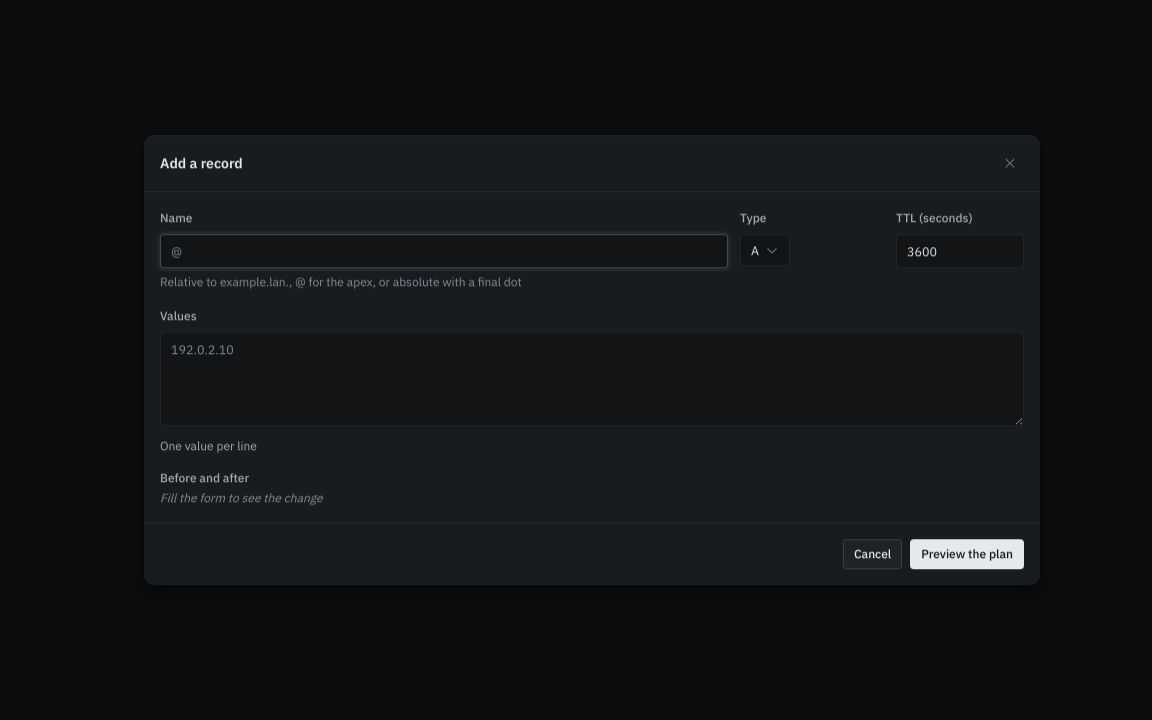
Test case: RecordEditor › shows field errors and builds nothing while the form is invalid
Type "bad..name" into the field with test id "record-owner".
click(444, 251); type("bad..name")  # box [160,234,728,268]
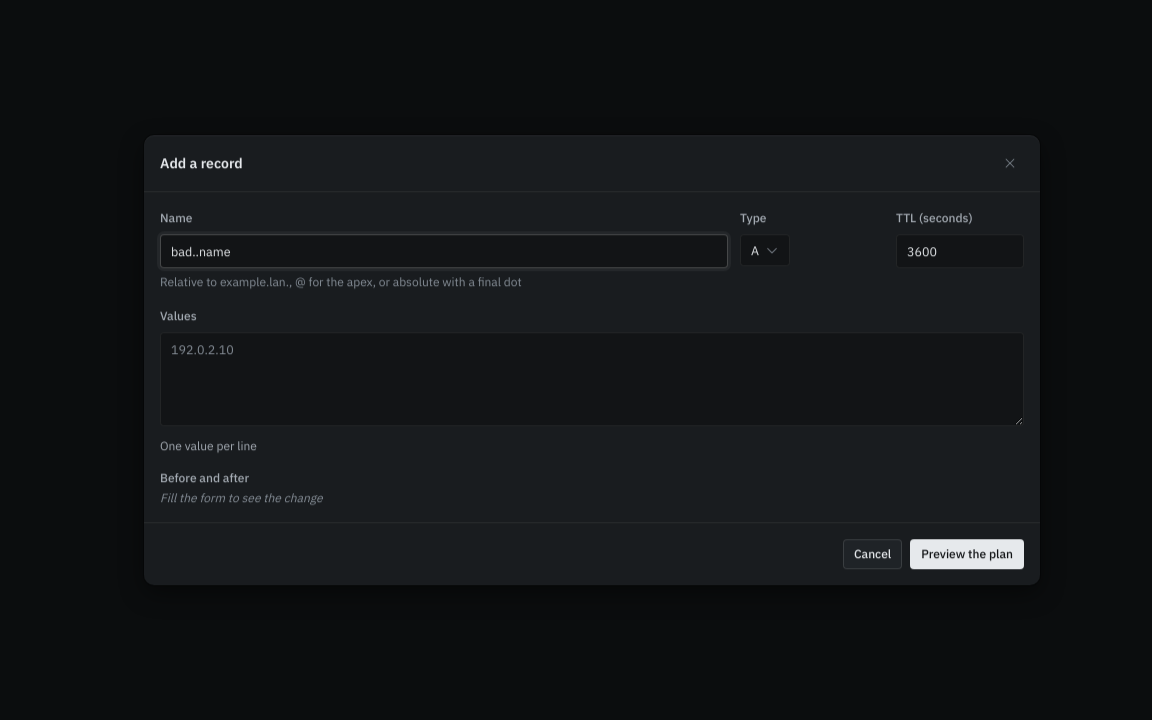
Type "2001:db8::1" into the text box with test id "record-rdata".
click(592, 379); type("2001:db8::1")  # box [160,332,1024,426]
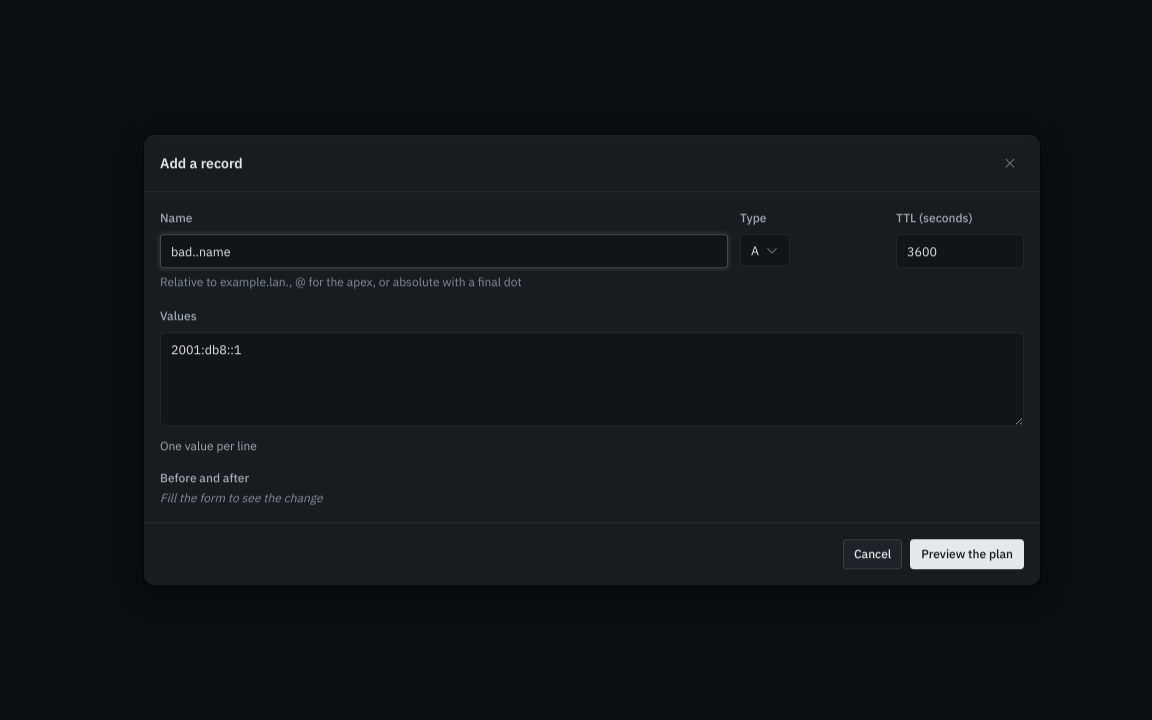
Expected: the text "Fill the form to see the change" is shown, [160,490,323,505]
Click the button "Preview the plan".
click(967, 554)  # box [910,539,1024,569]
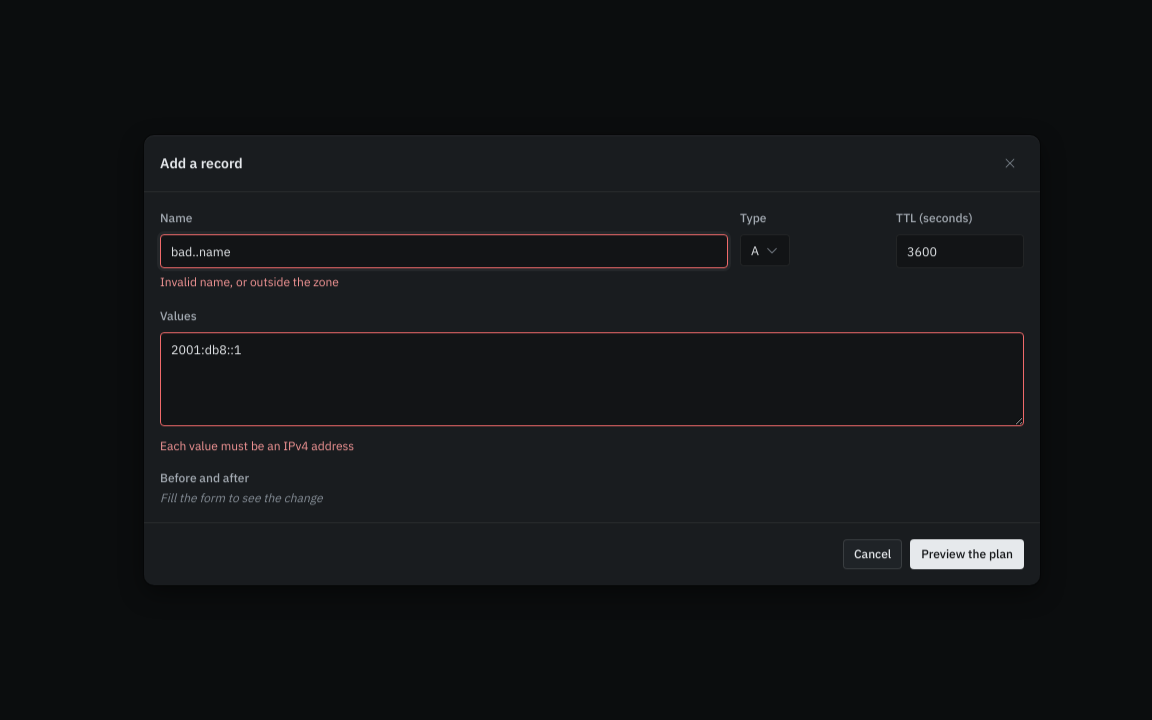
Expected: the text "Each value must be an IPv4 address" is shown, [160,438,354,453]
Expected: the text "Invalid name, or outside the zone" is shown, [160,274,339,289]
